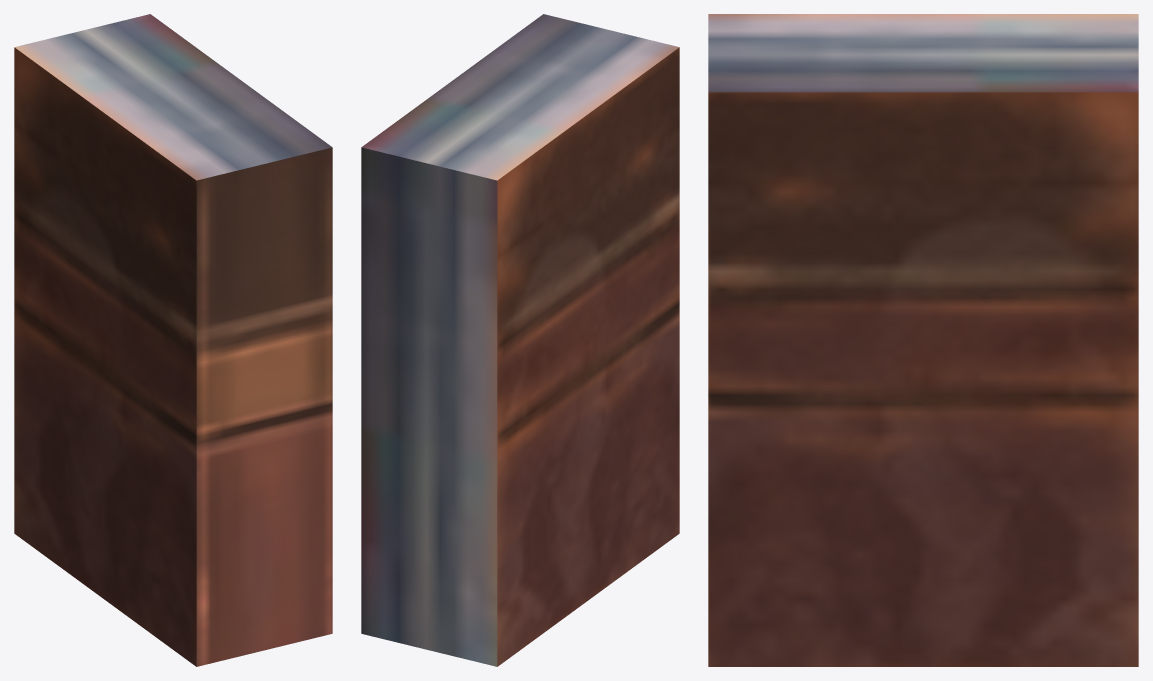
The model's file is F_shu001.fbx.
The picture shows the model from 3 angles, left to right: view 1: azimuth 30°, elevation 25°; view 2: azimuth 150°, elevation 25°; view 3: azimuth 270°, elevation 25°; orthographic projection. The views are drawn at different scales.
Parts seen in each view (by area): view 1: F_shu001; view 2: F_shu001; view 3: F_shu001.
Part boxes in pixels (box(x1,y1,x2,y2)): F_shu001: box(14, 14, 332, 666); F_shu001: box(361, 14, 679, 666); F_shu001: box(708, 14, 1138, 666).
Bounding box in the file's own units: 11.01 × 37.6 × 25.53.
